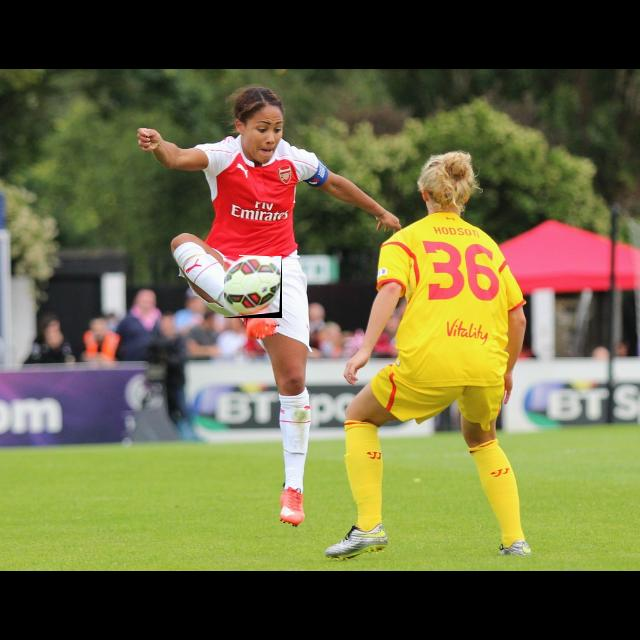Football: (224, 256, 282, 318)
